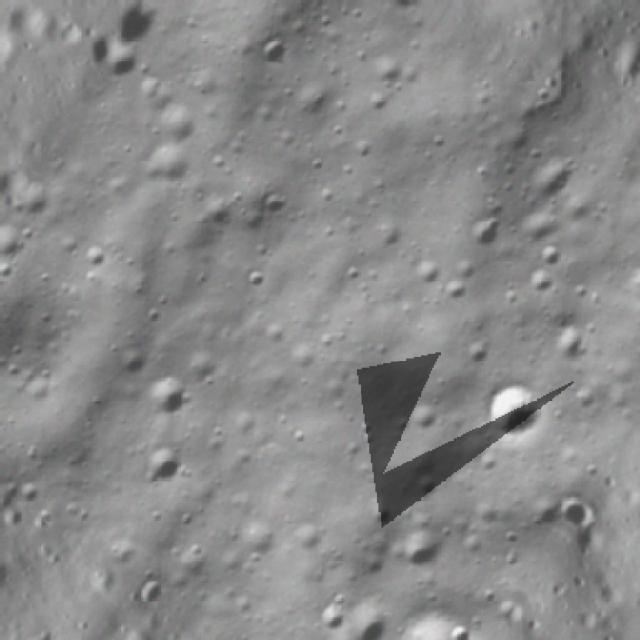crater: (464, 362, 562, 458), (132, 367, 198, 430), (130, 433, 192, 499), (390, 522, 444, 578), (337, 595, 400, 640), (252, 27, 303, 78), (358, 492, 402, 536), (402, 620, 483, 640)
